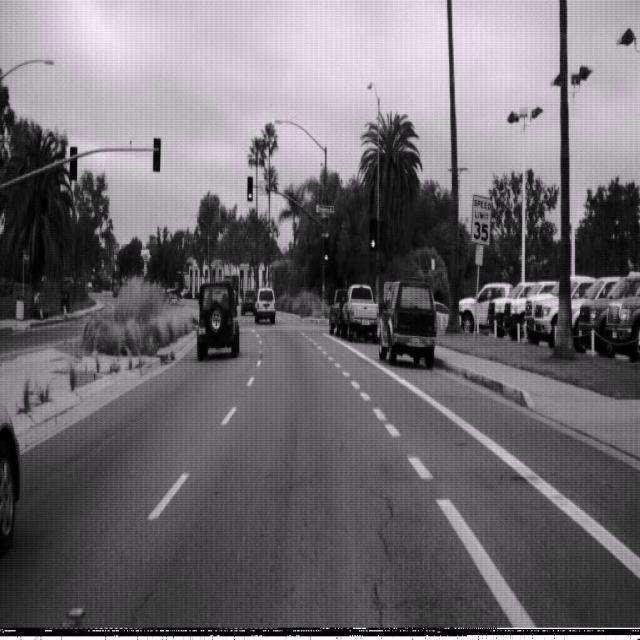speedLimit35: (469, 192, 493, 248)
